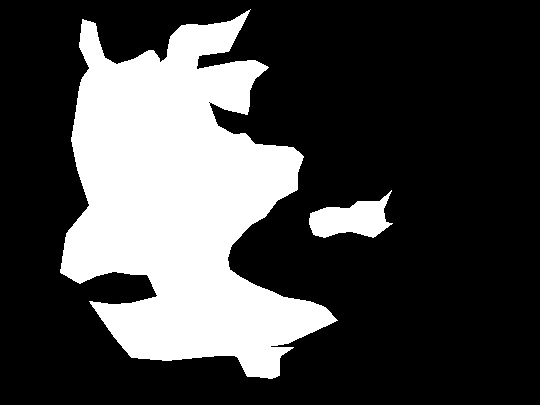Fire: (112, 34, 308, 264), (202, 293, 338, 372)
